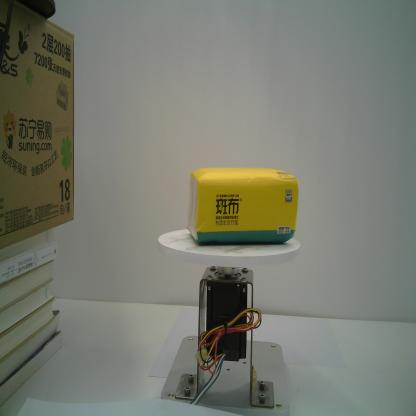Tissue: (184, 164, 300, 246)
